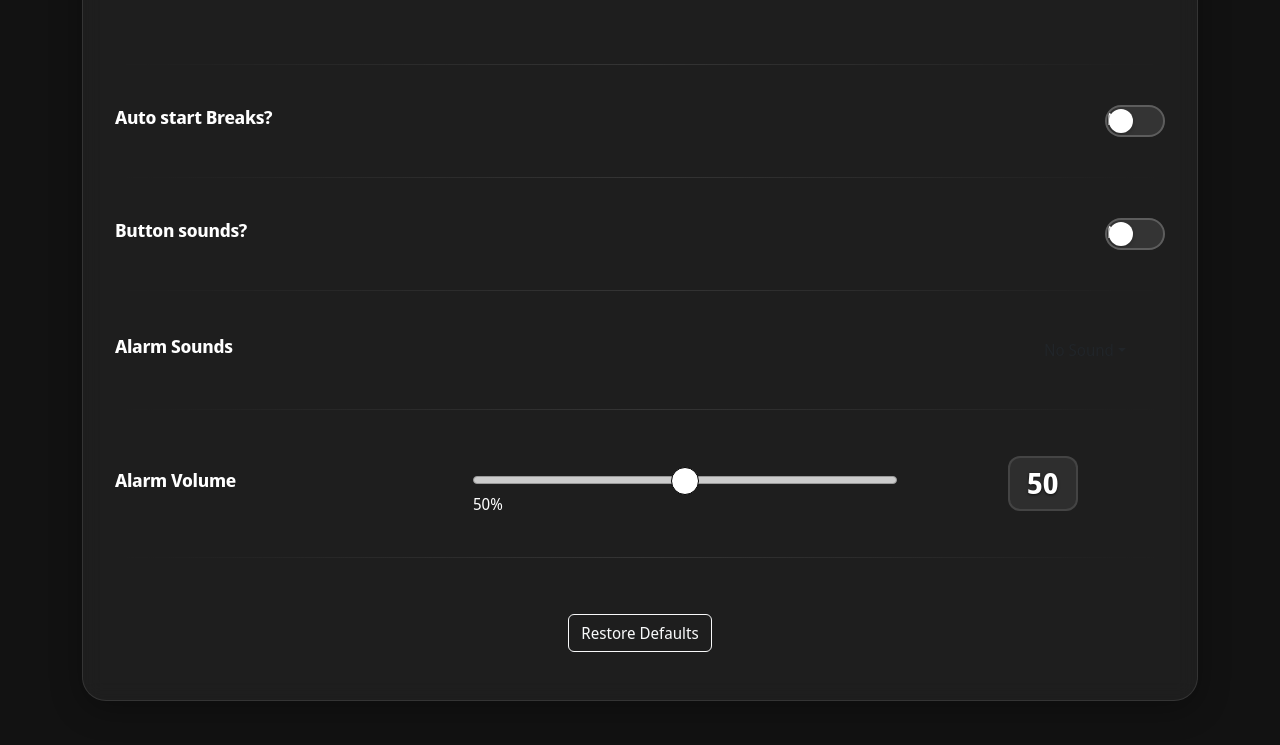
Test: Settings component › Alarm Volume Slider › updates volume display when slider changes
(page scrolled)
Set the slider named "Alarm Volume" to "0.8" at [807, 480], box x1=473 y1=476 x2=896 y2=484
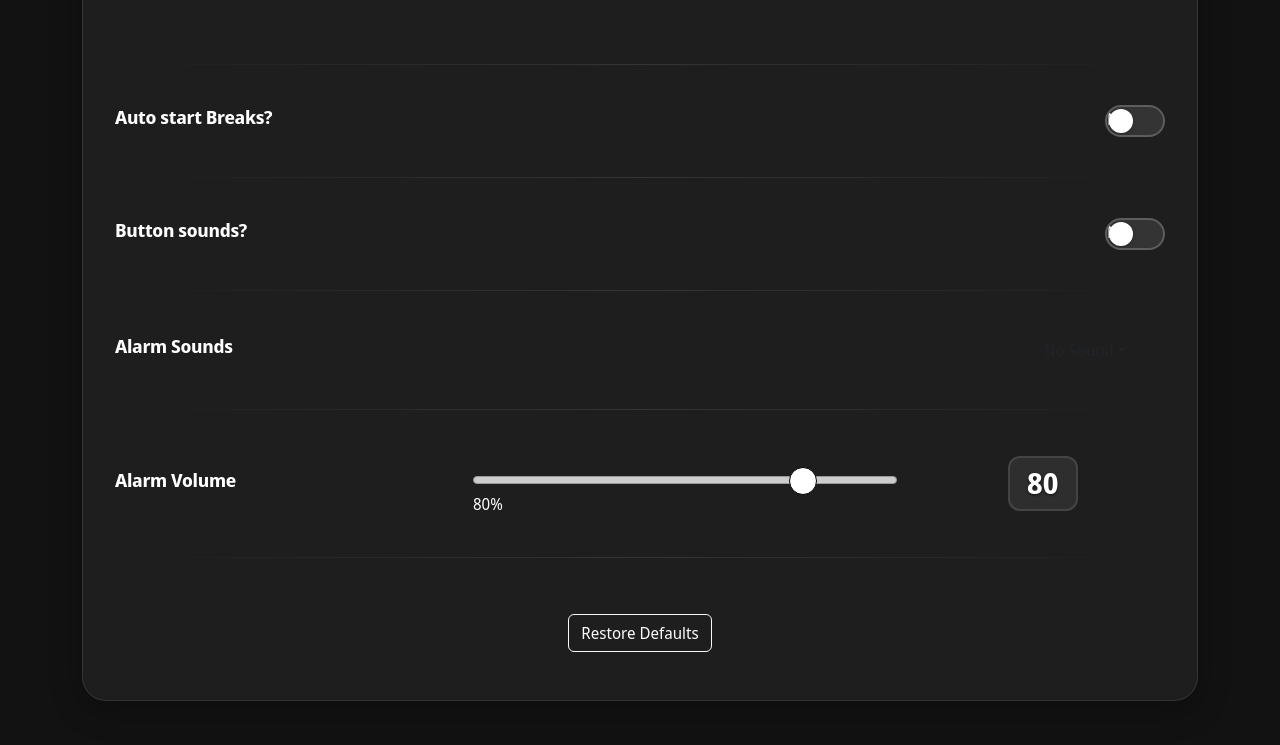
Check: the heading "80" is shown, box x1=1008 y1=456 x2=1078 y2=511
